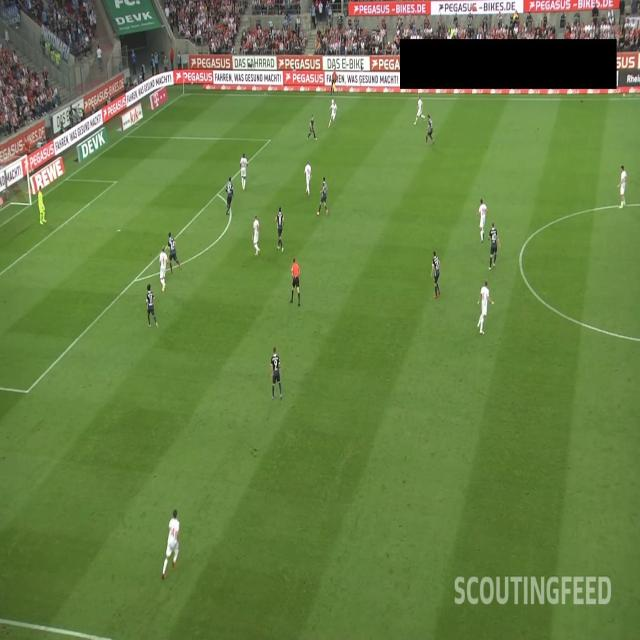ball: (331, 98, 334, 105)
